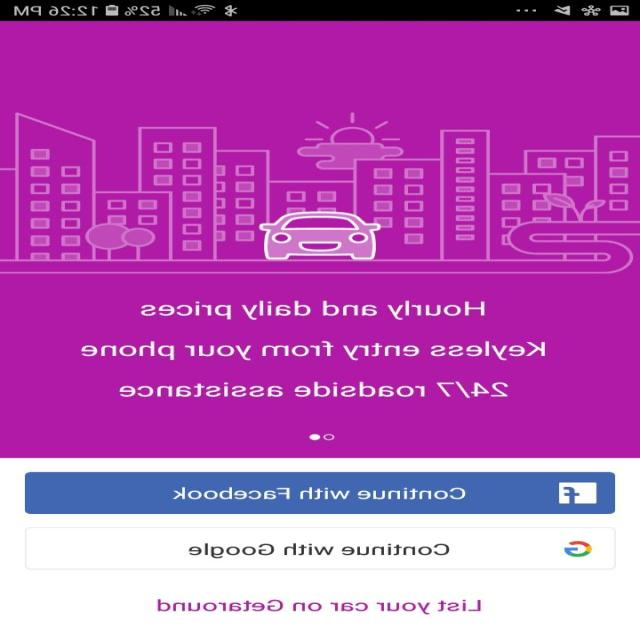Image: (1, 111, 640, 275)
Text: (81, 340, 545, 360), (142, 300, 486, 320), (120, 381, 510, 398), (157, 598, 482, 615)
TextButton: (26, 526, 617, 570), (25, 471, 616, 514)
